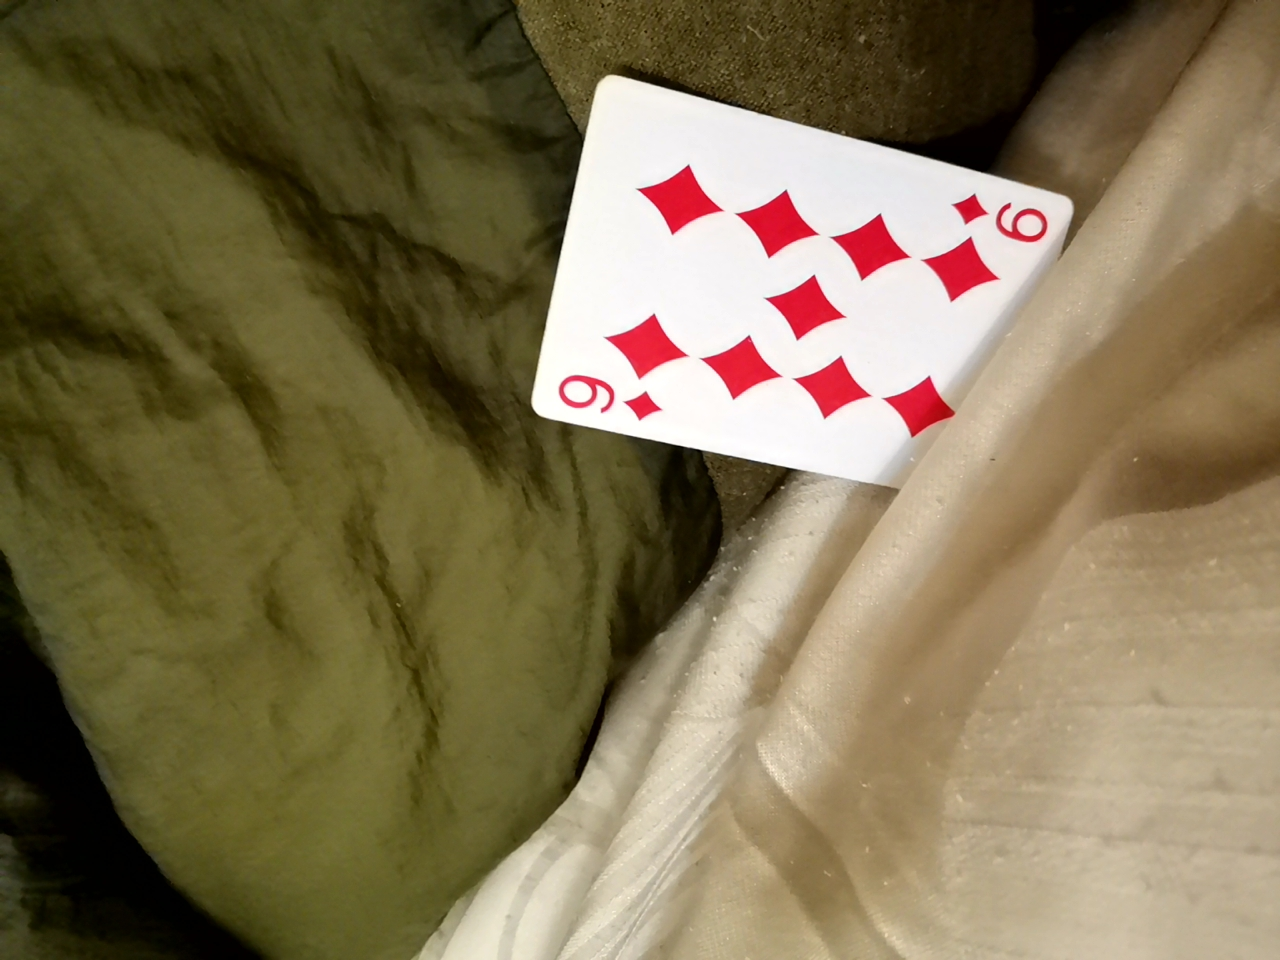fk 9: (518, 27, 1050, 451)
